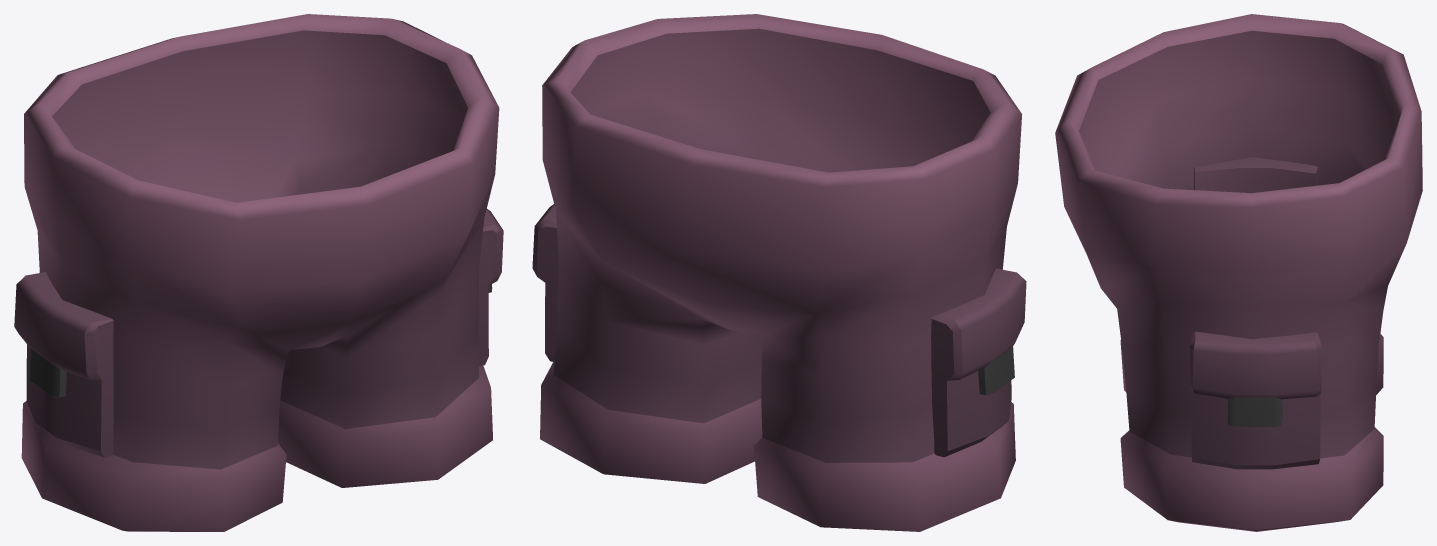
The model's file is Bottom_12.fbx.
3 views of the same model, side by side, from view 1: azimuth 30°, elevation 25°; view 2: azimuth 150°, elevation 25°; view 3: azimuth 270°, elevation 25° (orthographic). The views are drawn at different scales.
Visible parts, largest first — view 1: Bottom_12; view 2: Bottom_12; view 3: Bottom_12.
Boxes of the visible parts, box(x1,y1,x2,y2) form: Bottom_12: box(14, 14, 503, 531); Bottom_12: box(532, 14, 1026, 531); Bottom_12: box(1055, 14, 1422, 531).
Bounding box in the file's own units: 40.66 × 32.52 × 31.34.
